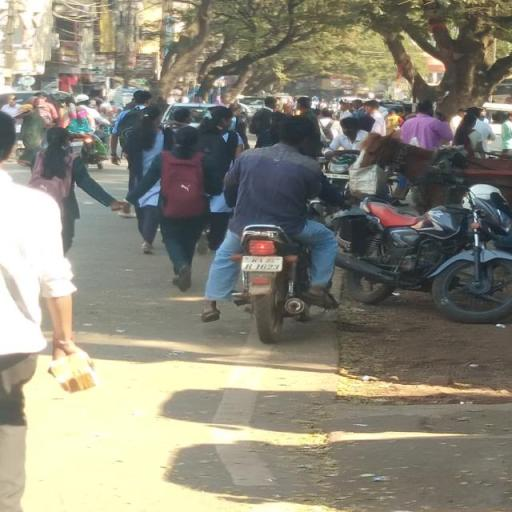bike: (208, 114, 362, 348)
numberplate: (240, 257, 286, 272)
withouthelmet: (280, 116, 318, 148)
